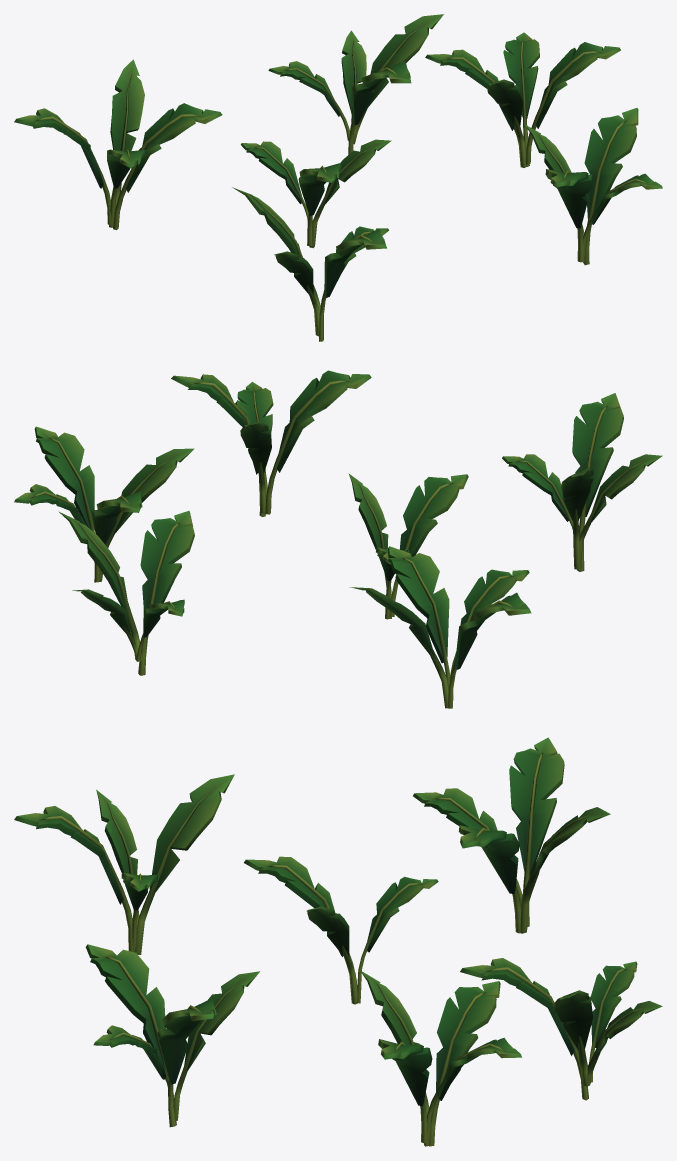
File: SM_Plant_Carrot_Lv2.fbx
3 renders of one model, top to bottom at view 1: azimuth 30°, elevation 25°; view 2: azimuth 150°, elevation 25°; view 3: azimuth 270°, elevation 25°, orthographic. The views are drawn at different scales.
Visible parts, largest first — view 1: SM_Plant_Carrot_Lv2; view 2: SM_Plant_Carrot_Lv2; view 3: SM_Plant_Carrot_Lv2.
Part boxes in pixels (x1,y1,x2,y2): SM_Plant_Carrot_Lv2: (14,14,662,341); SM_Plant_Carrot_Lv2: (14,370,662,708); SM_Plant_Carrot_Lv2: (14,737,662,1146).
Size of the model in its own units: 79.68 by 20.46 by 70.53.
